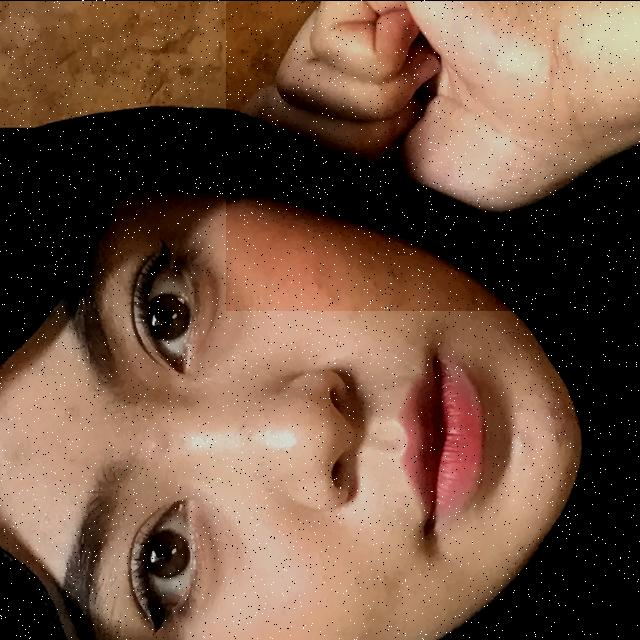ibu: (226, 0, 640, 310)
